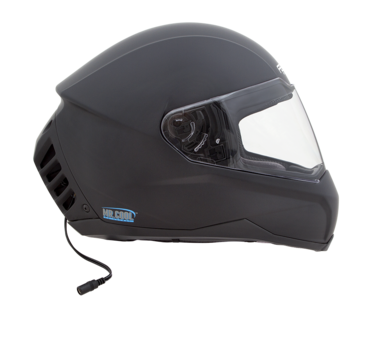with_helmet: (29, 20, 342, 254)
